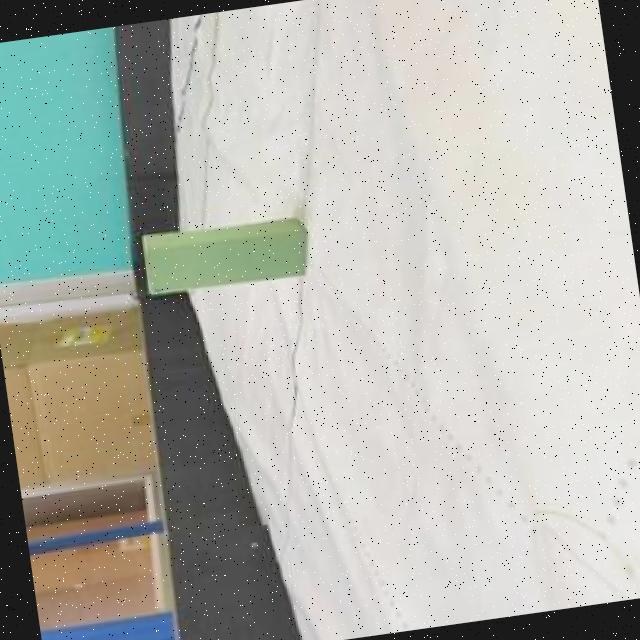greenbox: (135, 210, 314, 298)
